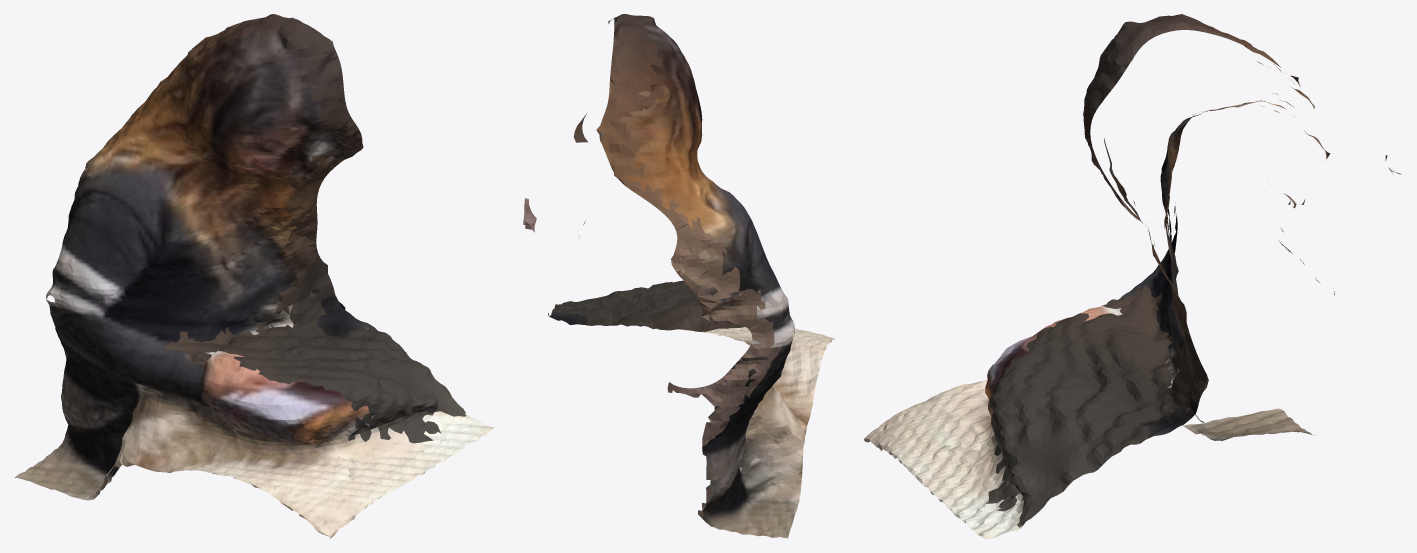
The picture shows the model from 3 angles, left to right: view 1: azimuth 30°, elevation 25°; view 2: azimuth 150°, elevation 25°; view 3: azimuth 270°, elevation 25°; orthographic projection. The views are drawn at different scales.
Size of the model in its own units: 0.632 by 0.762 by 0.73.
1 material, 1 textured.
